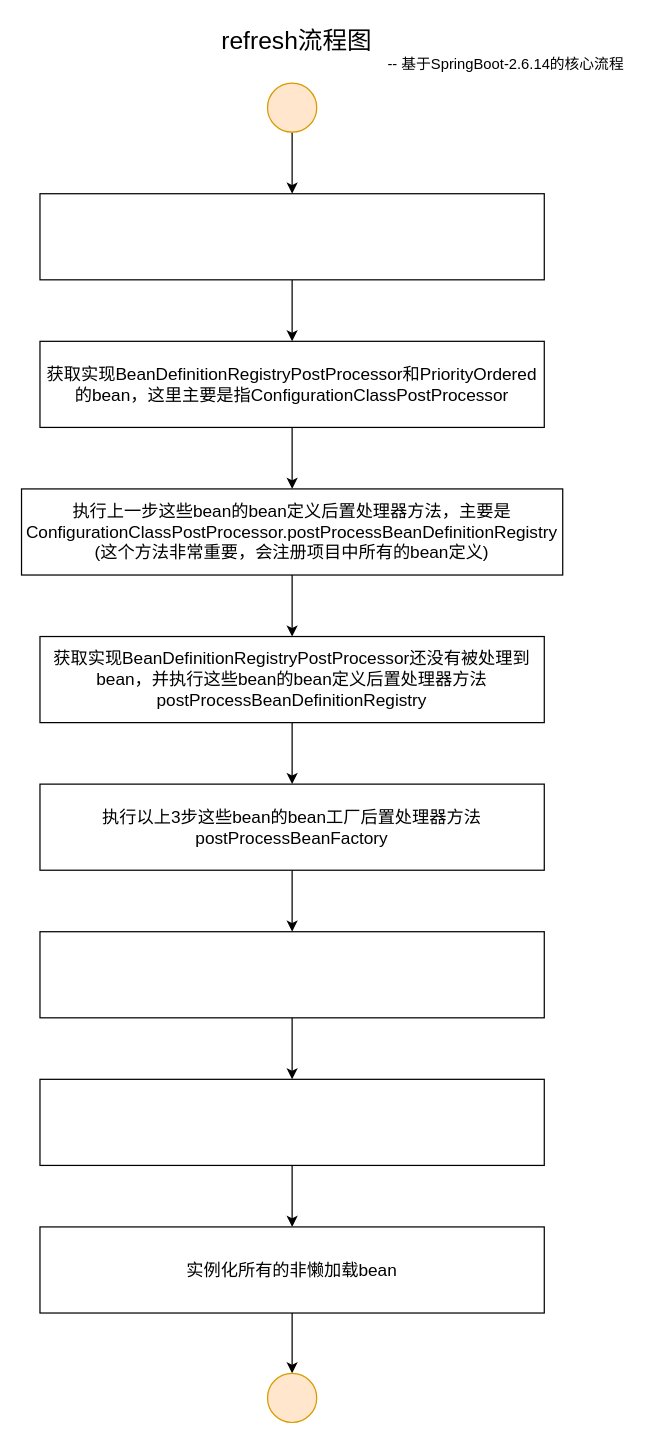
The diagram is 651 pixels wide and 1444 high, and some of its shapes have lost their labels. The shapes that lost their labels are listed below. From the top down, each one's centre as x and y in pixels, then its label:
At (x=291, y=236): "执行bean工厂后置处理器方法 AbstracApplicationContext.invlkeBeanFactoryPostProcessor".
At (x=291, y=974): "获取实现BeanFactoryPostProcessor的 bean，并执行这些bean的bean工厂后置处理器方法postProcessBeanFactory".
At (x=291, y=1121): "注册实现 BeanPostProcessor的bean".
